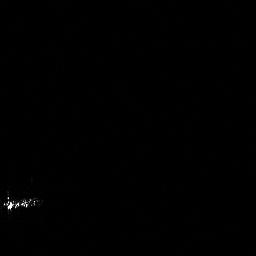ship: (1, 190, 42, 215)
